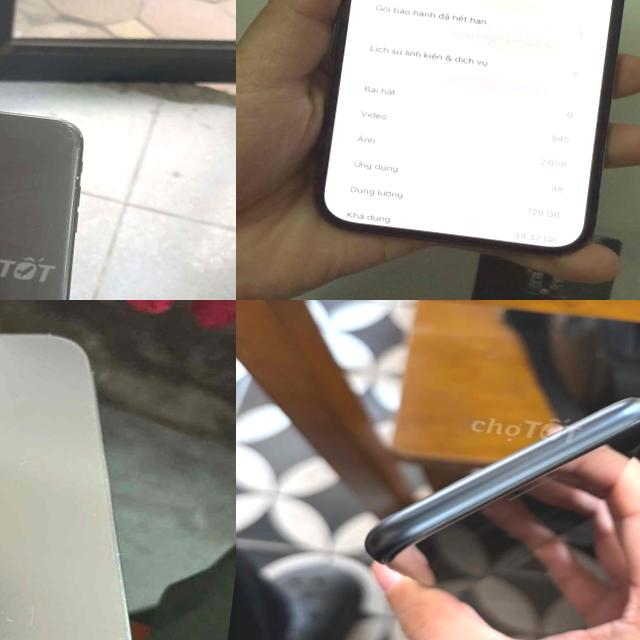gen_12_13: (287, 0, 640, 283), (0, 300, 200, 640)
gen_7_8: (0, 81, 101, 300)
